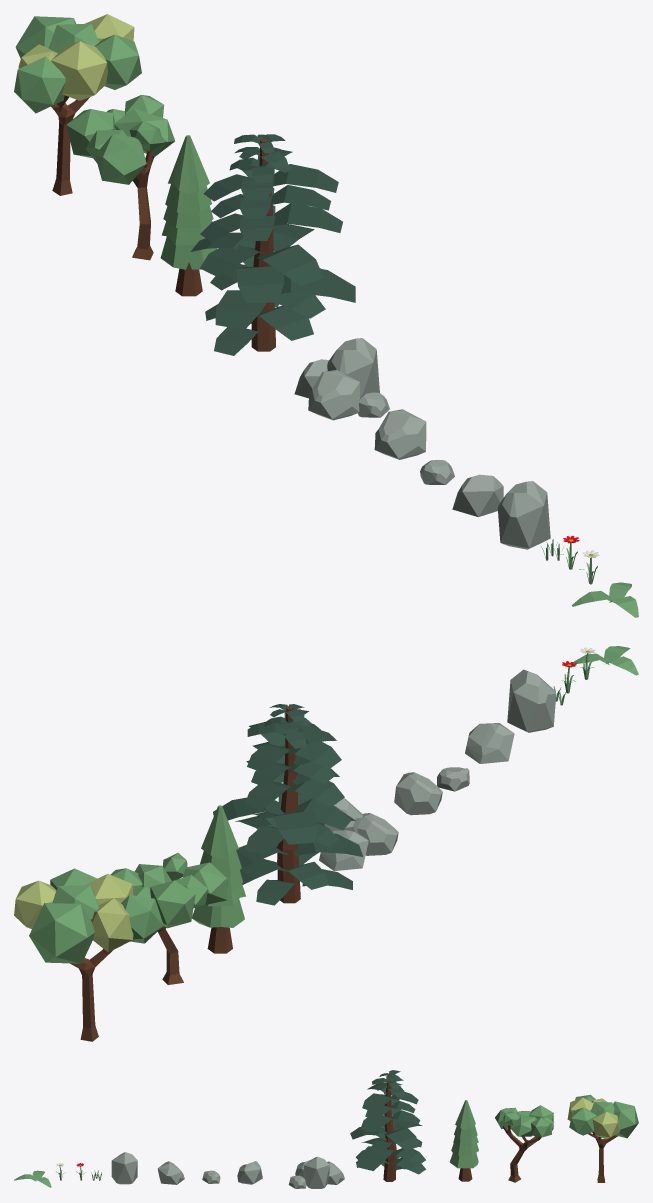
The model's file is PreMikleca (1).fbx.
The picture shows the model from 3 angles, top to bottom: view 1: azimuth 30°, elevation 25°; view 2: azimuth 150°, elevation 25°; view 3: azimuth 270°, elevation 25°; orthographic projection. The views are drawn at different scales.
Visible parts, largest first — view 1: Rock 04, Icosphere.017, Rock 01, Icosphere.002, Icosphere.018, Icosphere.013, Icosphere, Icosphere.016, Rock 03, Plane.011, Plane.014, Plane.041 (+17 smaller); view 2: Icosphere.021, Rock 04, Cylinder.006, Rock 03, Icosphere.020, Rock 01, Icosphere.010, Icosphere.018, Plane.041, Icosphere.015, Icosphere.002, Plane.012 (+25 smaller); view 3: Rock 04, Icosphere, Cylinder.006, Icosphere.021, Icosphere.015, Cube, Icosphere.016, Plane.007, Plane.013, Rock 01, Rock 03, Icosphere.012 (+24 smaller).
Part boxes in pixels (x1,y1,x2,y2): Rock 04: [497, 481, 550, 549]; Icosphere.017: [51, 41, 107, 100]; Rock 01: [374, 409, 426, 459]; Icosphere.002: [308, 369, 359, 420]; Icosphere.018: [14, 56, 65, 113]; Icosphere.013: [95, 134, 146, 184]; Icosphere: [327, 338, 379, 396]; Icosphere.016: [94, 34, 141, 89]; Rock 03: [452, 474, 503, 517]; Plane.011: [236, 266, 284, 302]; Plane.014: [256, 244, 323, 285]; Plane.041: [51, 95, 89, 195]; Icosphere.021: [29, 903, 94, 963]; Rock 04: [507, 669, 556, 732]; Cylinder.006: [277, 707, 300, 903]; Rock 03: [465, 723, 514, 763]; Icosphere.020: [91, 898, 133, 952]; Rock 01: [394, 772, 442, 815]; Icosphere.010: [150, 880, 195, 928]; Icosphere.018: [121, 895, 163, 943]; Plane.041: [70, 948, 112, 1041]; Icosphere.015: [14, 880, 56, 928]; Icosphere.002: [357, 813, 398, 855]; Plane.012: [273, 810, 317, 844]; Rock 04: [111, 1152, 137, 1184]; Icosphere: [303, 1156, 329, 1188]; Cylinder.006: [383, 1074, 396, 1181]; Icosphere.021: [613, 1101, 638, 1138]; Icosphere.015: [592, 1111, 620, 1139]; Cube: [502, 1125, 541, 1182]; Icosphere.016: [569, 1107, 596, 1135]; Plane.007: [356, 1146, 394, 1170]; Plane.013: [384, 1127, 419, 1150]; Rock 01: [237, 1161, 262, 1184]; Rock 03: [157, 1161, 184, 1184]; Icosphere.012: [510, 1116, 536, 1136].
Bounding box in the file's own units: 847 × 1193 × 6269.
